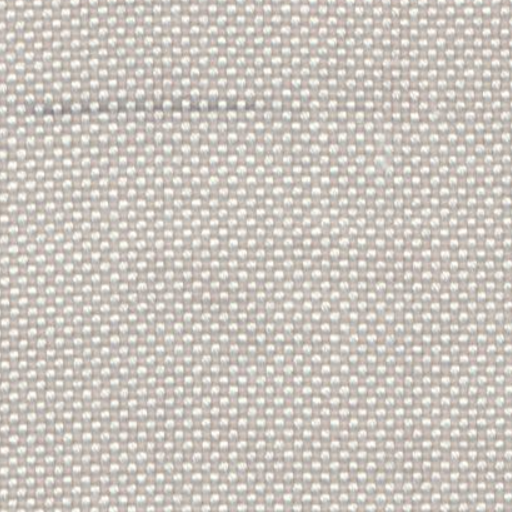WuZi: (32, 94, 237, 126)
